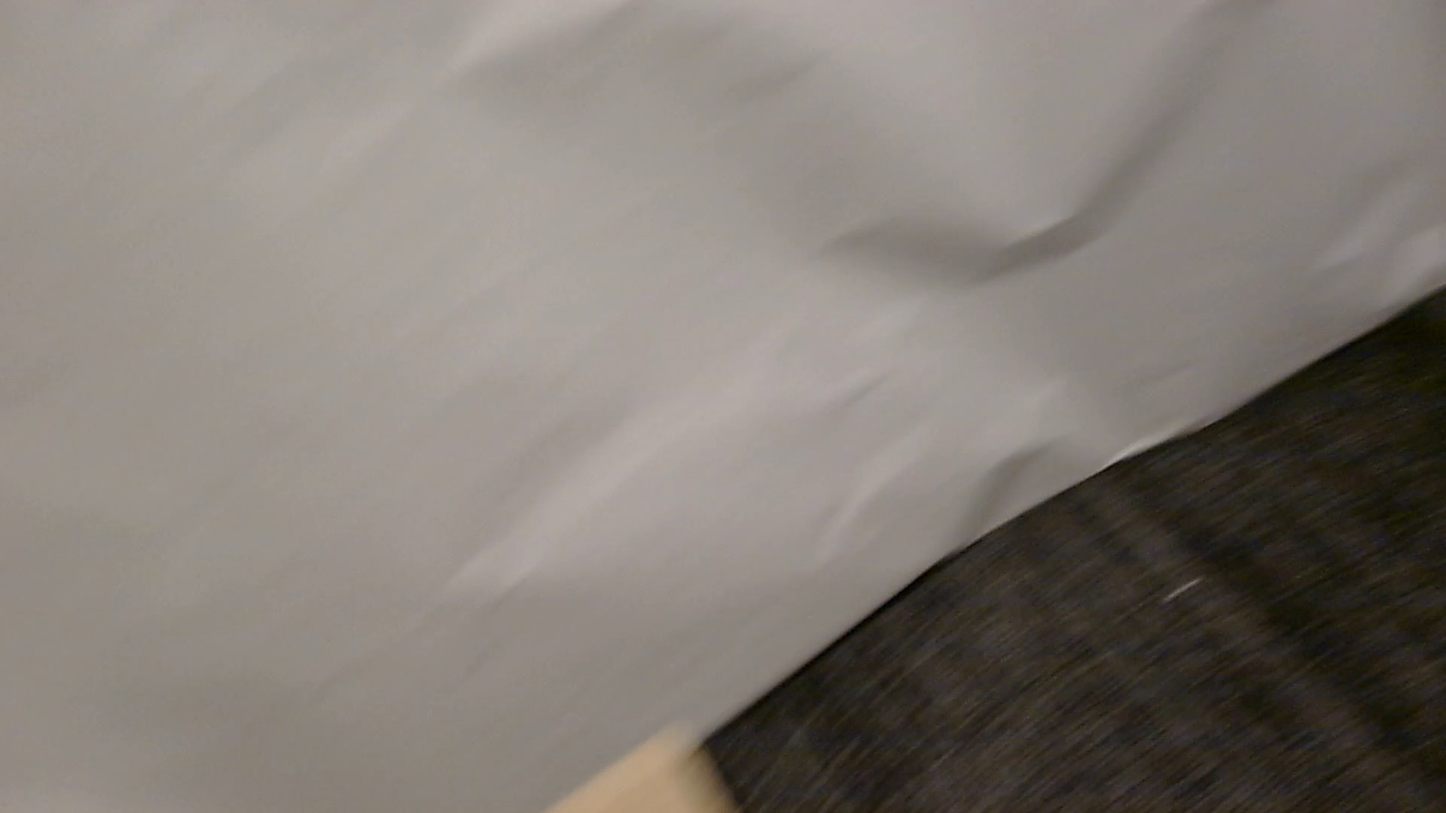Wooden Block: (545, 729, 739, 812)
